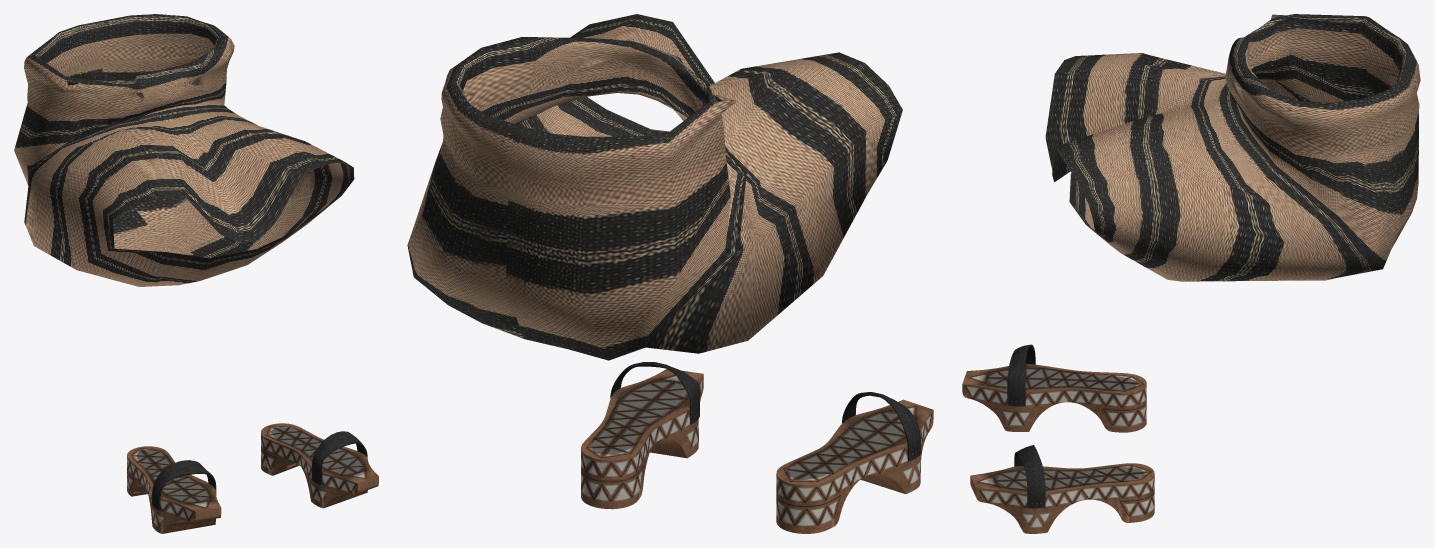
Rendered from 3D ANC MAN 2 S4 EXTRA.FBX.glb.
3 renders of one model, left to right at view 1: azimuth 30°, elevation 25°; view 2: azimuth 150°, elevation 25°; view 3: azimuth 270°, elevation 25°, orthographic. The views are drawn at different scales.
Parts seen in each view (by area): view 1: PESHTEMAL 2 S4, SHOES 2 S4; view 2: PESHTEMAL 2 S4, SHOES 2 S4; view 3: PESHTEMAL 2 S4, SHOES 2 S4.
Part boxes in pixels (<box>): PESHTEMAL 2 S4: <box>14,14,354,286</box>; SHOES 2 S4: <box>127,423,378,533</box>; PESHTEMAL 2 S4: <box>407,14,902,360</box>; SHOES 2 S4: <box>581,362,933,533</box>; PESHTEMAL 2 S4: <box>1045,14,1420,281</box>; SHOES 2 S4: <box>962,344,1154,533</box>.
Bounding box in the file's own units: 0.471 × 0.6943 × 0.679.
Materials: 2 (2 with a texture image).
